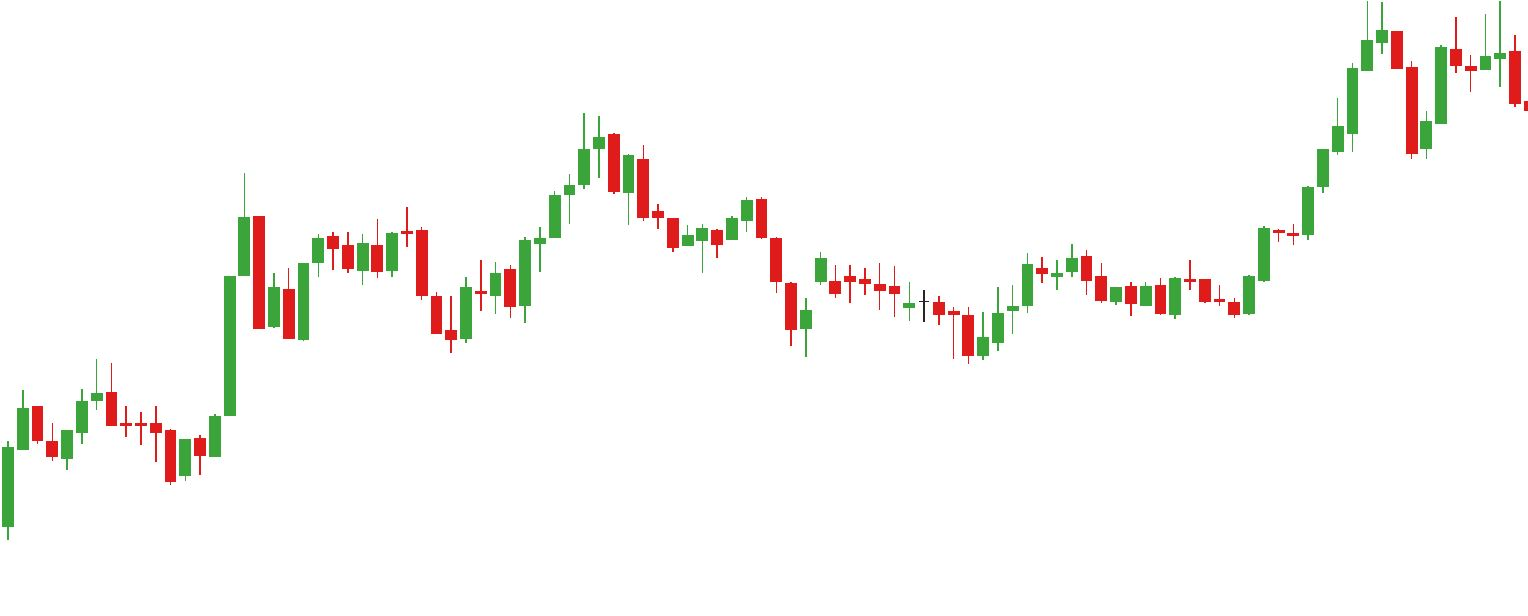buy: (279, 250, 474, 356), (45, 402, 190, 491)
sell: (239, 111, 621, 242)
